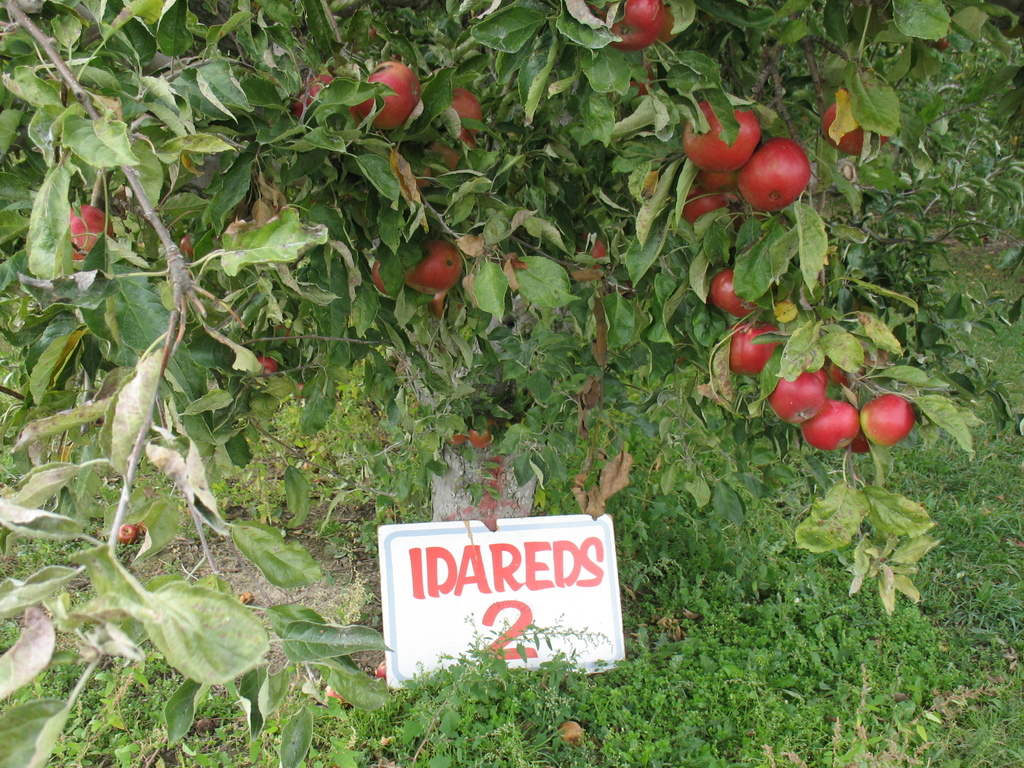Apple: (670, 97, 917, 448), (354, 59, 426, 131), (824, 90, 896, 161), (586, 0, 669, 53), (399, 236, 468, 298), (66, 199, 122, 267), (292, 71, 350, 133), (556, 229, 618, 280), (421, 122, 483, 170), (428, 81, 473, 140), (447, 414, 508, 452), (612, 51, 658, 100), (430, 280, 480, 325), (366, 247, 410, 296), (322, 684, 360, 709), (252, 350, 286, 375), (178, 231, 208, 256), (556, 719, 586, 743), (113, 522, 142, 546), (374, 659, 387, 680)
